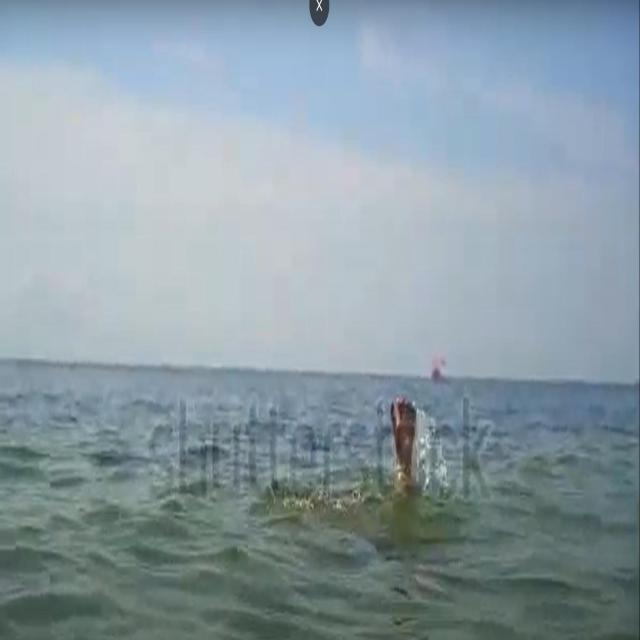Out of Water: (377, 389, 428, 496)
